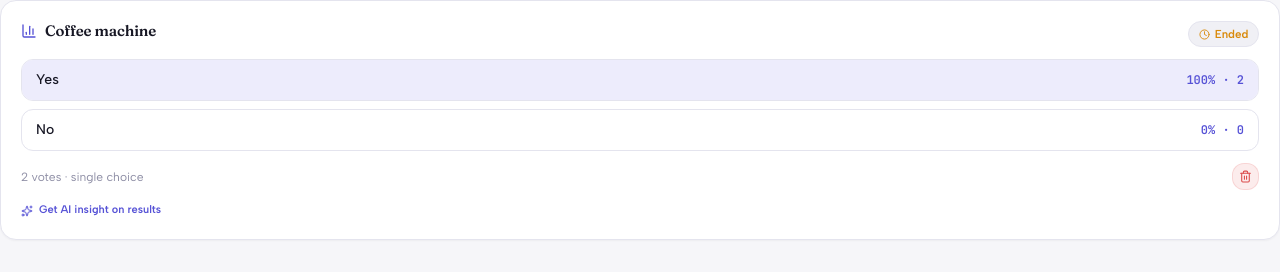
PollCard — delete + AI insight › shows an unavailable message when the AI request fails
Click the button "Get AI insight on results" at (91, 211), box [21, 202, 161, 219]
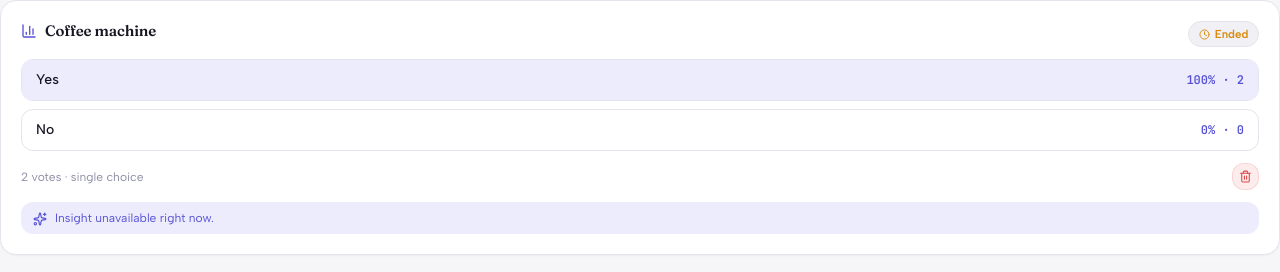
expect the text "Insight unavailable right now." is shown: met, box [55, 210, 214, 226]
